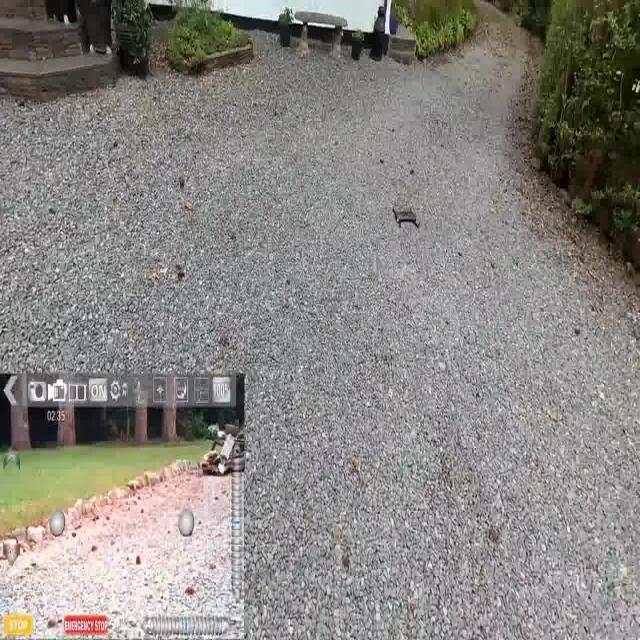drones: (390, 196, 423, 238)
